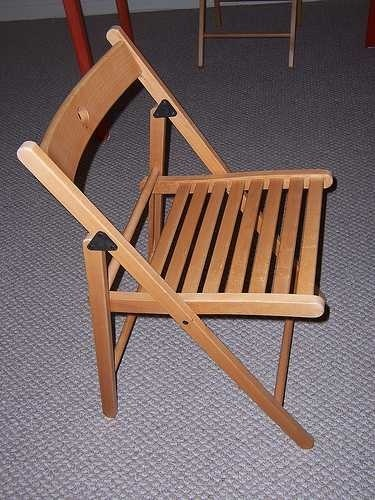obstacle: (17, 26, 332, 447)
